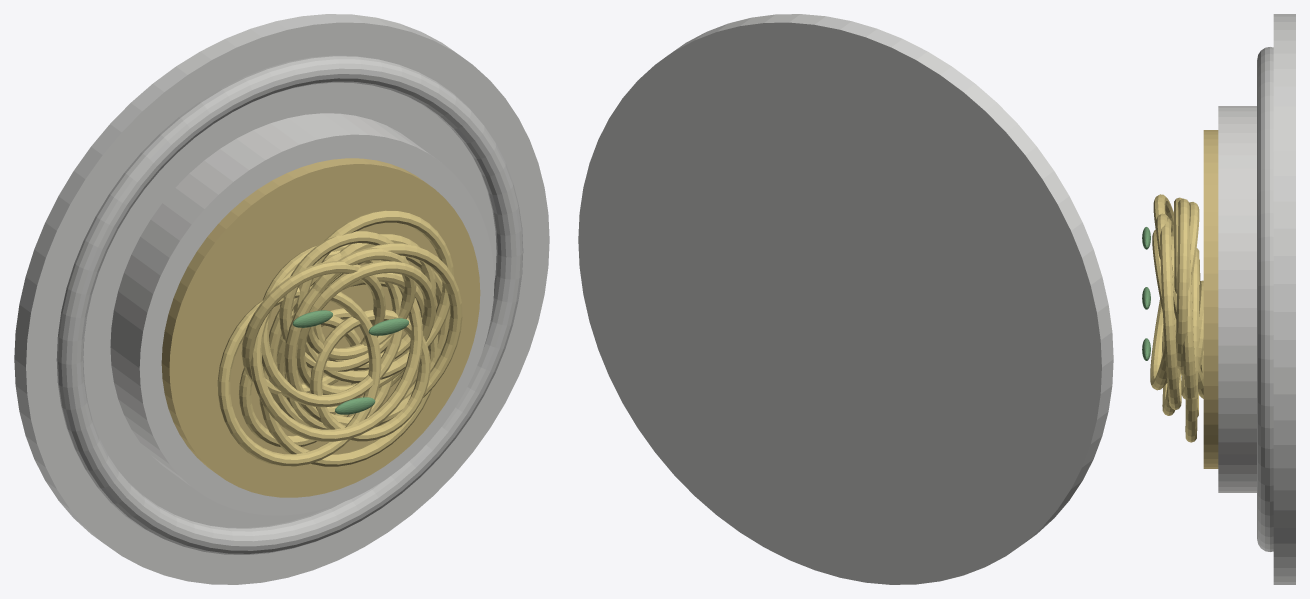
Rendered from truffle_pasta.glb.
3 renders of one model, left to right at view 1: azimuth 30°, elevation 25°; view 2: azimuth 150°, elevation 25°; view 3: azimuth 270°, elevation 25°, orthographic. The views are drawn at different scales.
Visible parts, largest first — view 1: plate, pasta_base, plate_rim, bowl, noodle1, noodle8, noodle13, noodle10, noodle0, noodle2, noodle14, noodle15 (+8 smaller); view 2: plate; view 3: bowl, plate, plate_rim, pasta_base, noodle8, noodle10, noodle5, noodle11, noodle13, noodle2, noodle12, noodle14 (+5 smaller).
Boxes of the visible parts, <box> form: plate: <box>14,14,549,584</box>; pasta_base: <box>161,158,480,497</box>; plate_rim: <box>56,55,523,554</box>; bowl: <box>110,113,494,515</box>; noodle1: <box>217,285,381,466</box>; noodle8: <box>284,243,462,425</box>; noodle13: <box>250,250,422,441</box>; noodle10: <box>293,210,454,382</box>; noodle0: <box>310,309,430,441</box>; noodle2: <box>261,244,403,407</box>; noodle14: <box>296,260,436,394</box>; noodle15: <box>241,261,385,397</box>; plate: <box>578,14,1113,584</box>; bowl: <box>1218,106,1256,492</box>; plate: <box>1273,14,1295,584</box>; plate_rim: <box>1257,47,1273,551</box>; pasta_base: <box>1203,130,1218,468</box>; noodle8: <box>1160,218,1181,410</box>; noodle10: <box>1176,198,1189,371</box>; noodle5: <box>1185,248,1199,442</box>; noodle11: <box>1182,233,1198,417</box>; noodle13: <box>1150,299,1166,390</box>; noodle2: <box>1162,202,1199,353</box>; noodle12: <box>1181,280,1203,399</box>; noodle14: <box>1152,230,1184,377</box>.
Bounding box in the file's own units: 0.31 × 0.31 × 0.0834.
